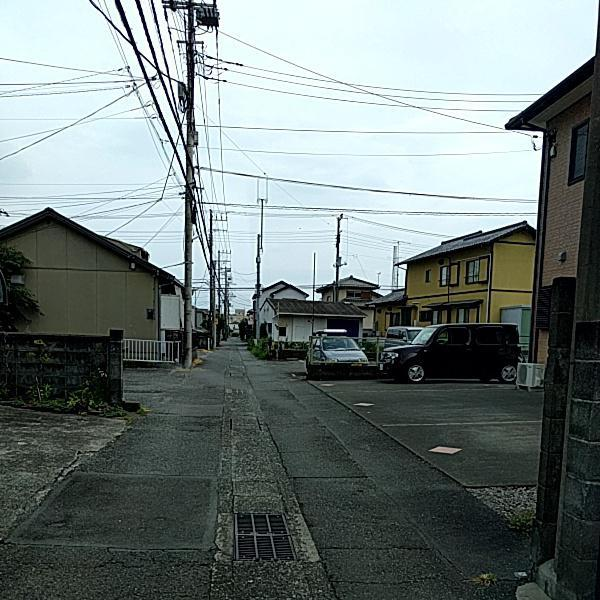D10: (73, 549, 153, 578), (324, 573, 442, 590), (320, 540, 433, 556)
